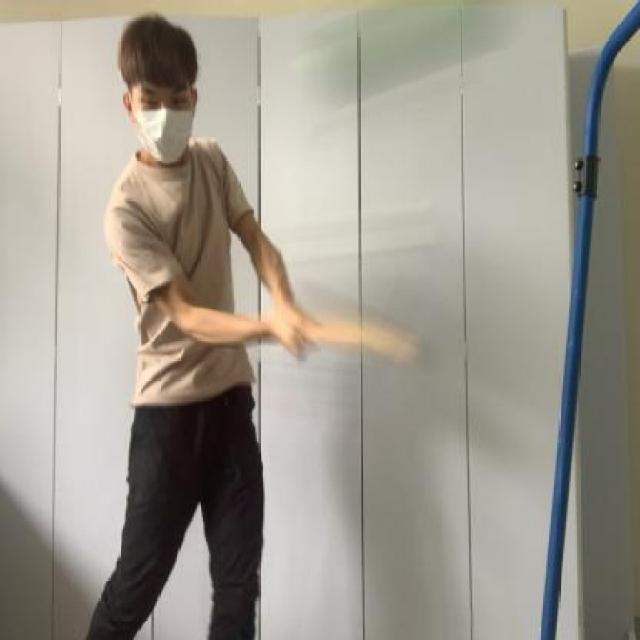baseball: (284, 0, 522, 125)
